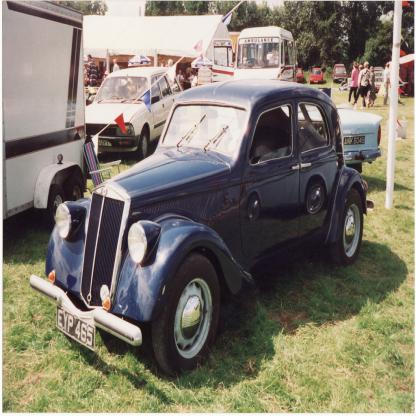Car: (30, 79, 374, 378), (85, 67, 184, 158), (281, 105, 384, 173)
